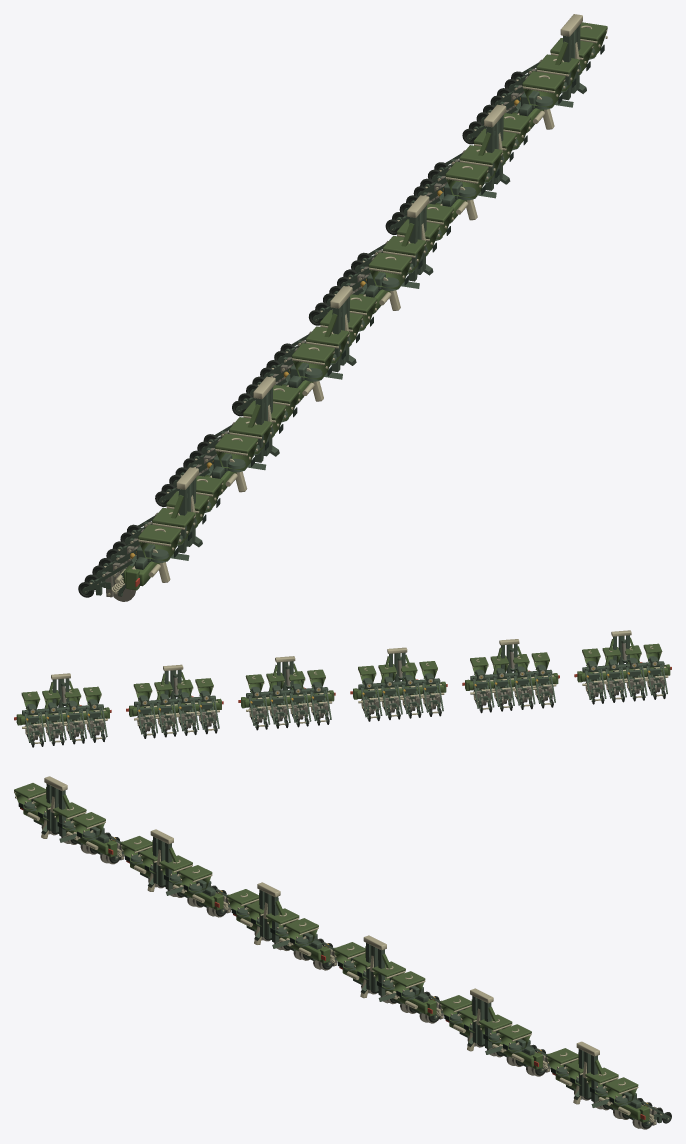
The model's file is audit-hf-seeder-compact-sow-front.glb.
3 views of the same model, one above another, from view 1: azimuth 30°, elevation 25°; view 2: azimuth 150°, elevation 25°; view 3: azimuth 270°, elevation 25° (orthographic). The views are drawn at different scales.
Visible parts, largest first — view 1: no part large enough to name; view 2: toolbarBeam (×6), toolbarRail (×6); view 3: no part large enough to name.
Part boxes in pixels (x1,y1,x2,y2): toolbarBeam (×6): (20,665,668,724); toolbarRail (×6): (22,661,664,715).
Bounding box in the file's own units: 20.13 × 2.25 × 17.47.
